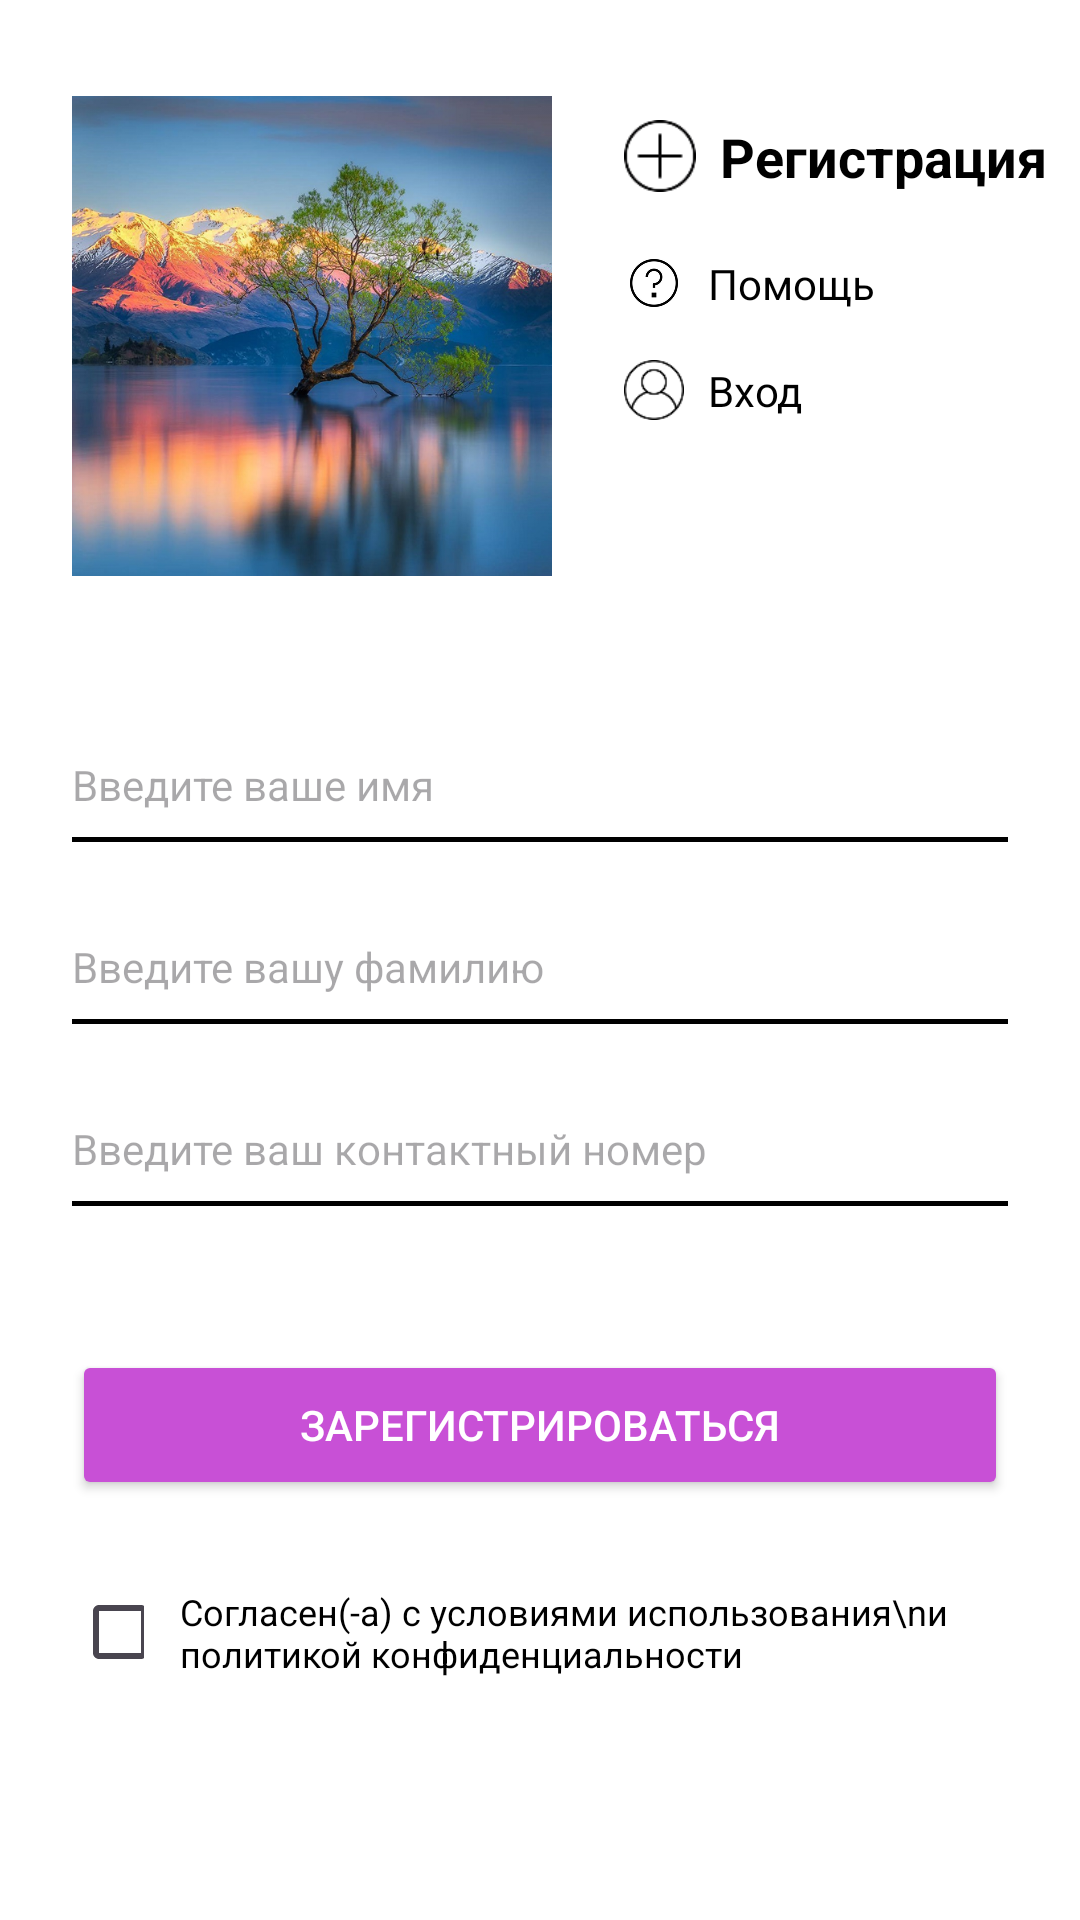

Icons on this 1080px×1920px Android screen, each with its box as (x1, y1, x2, y2):
help: (630, 259, 678, 307)
user: (624, 360, 684, 420)
